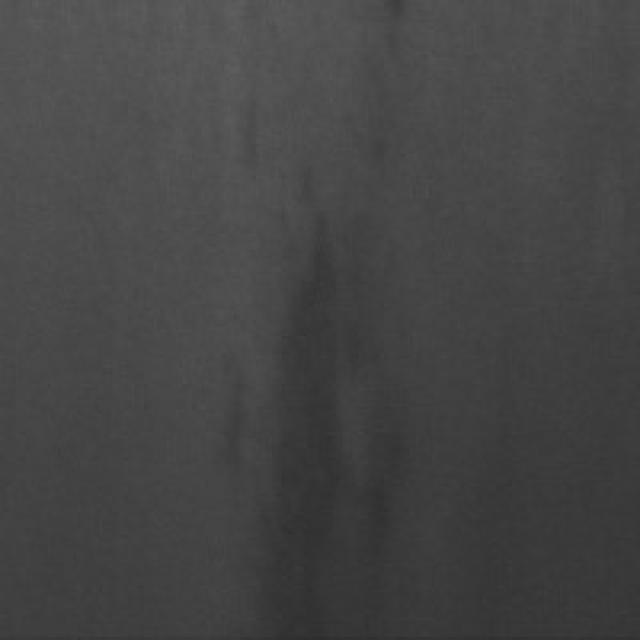inclusion: (250, 132, 400, 630), (221, 80, 275, 211)
